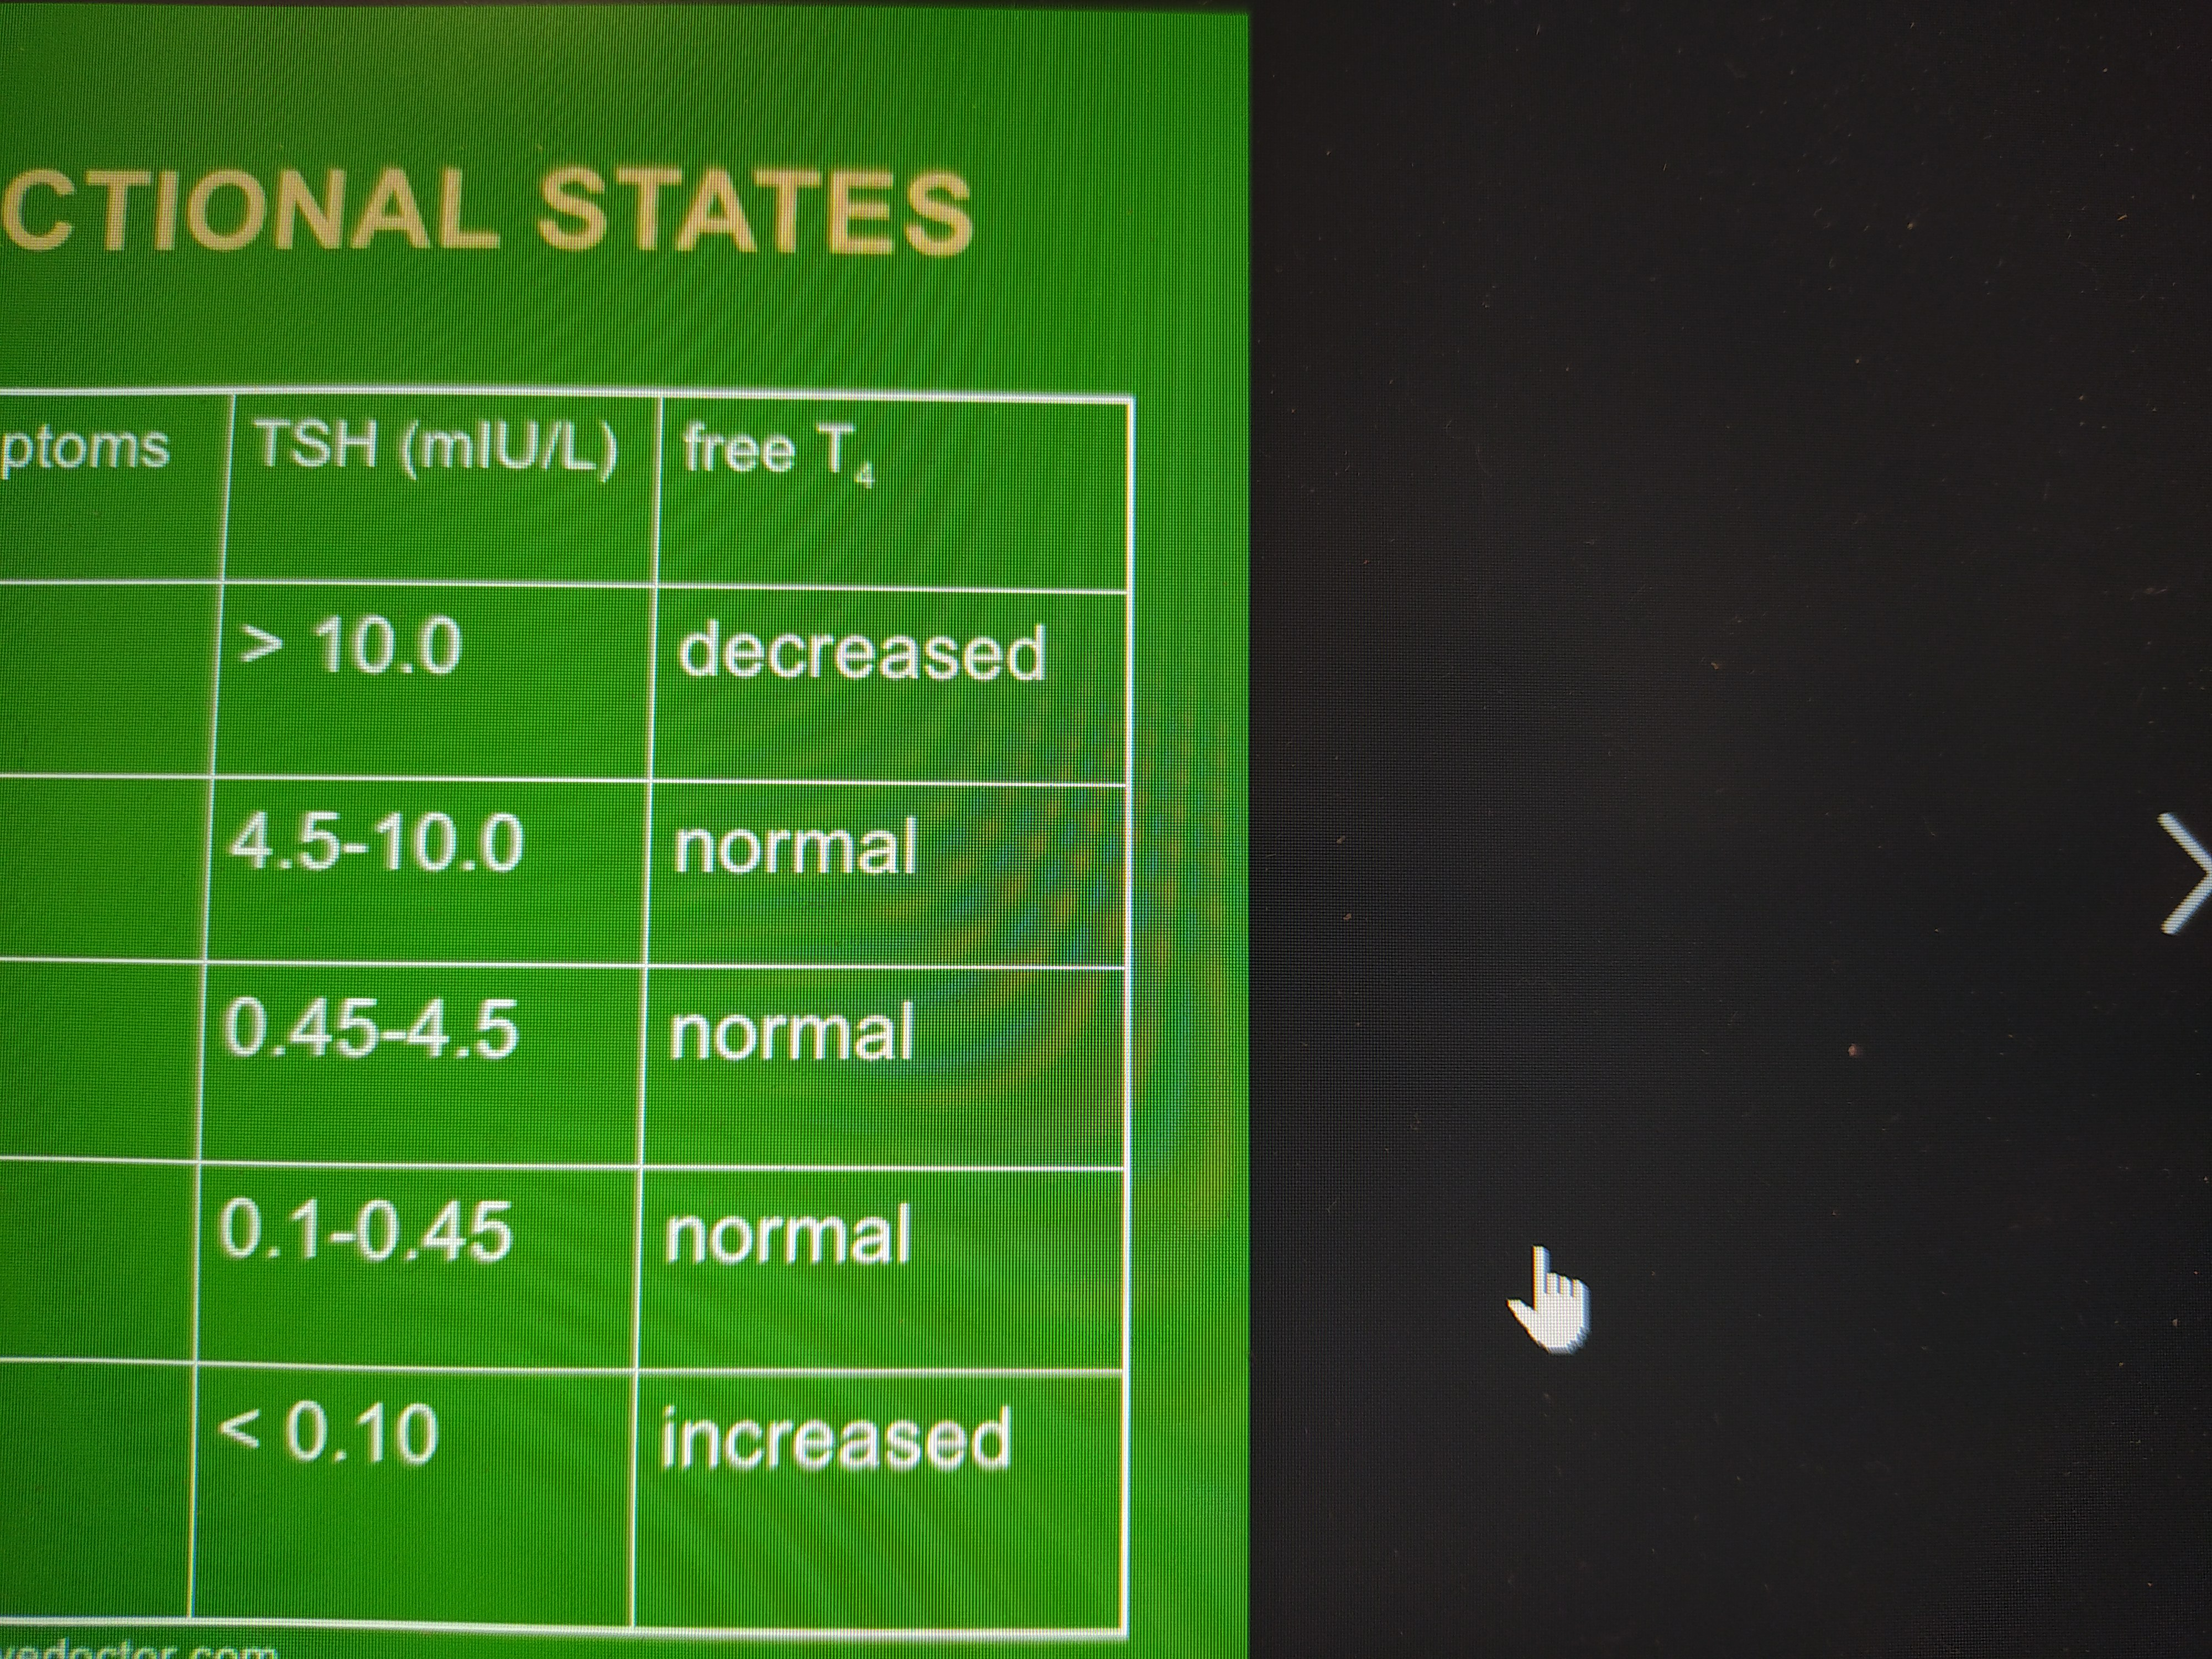.: (265, 1197, 282, 1258), (277, 812, 293, 870), (404, 1197, 418, 1262), (333, 1399, 347, 1462), (401, 615, 415, 674), (462, 812, 475, 871), (272, 995, 286, 1054), (456, 997, 470, 1056)
0: (355, 1197, 399, 1262), (218, 1195, 261, 1258), (284, 1399, 327, 1462), (395, 1401, 437, 1466), (420, 615, 463, 674), (413, 812, 456, 871), (223, 997, 266, 1056), (354, 615, 395, 674), (482, 812, 523, 871)
1: (289, 1197, 319, 1258), (355, 1401, 385, 1462), (376, 812, 402, 870), (317, 615, 341, 674)
4: (421, 1199, 467, 1260), (226, 810, 272, 870), (406, 997, 449, 1058), (291, 997, 331, 1054), (855, 462, 876, 490)
5: (474, 999, 517, 1060), (470, 1201, 512, 1263), (336, 997, 378, 1058), (300, 810, 340, 870)
